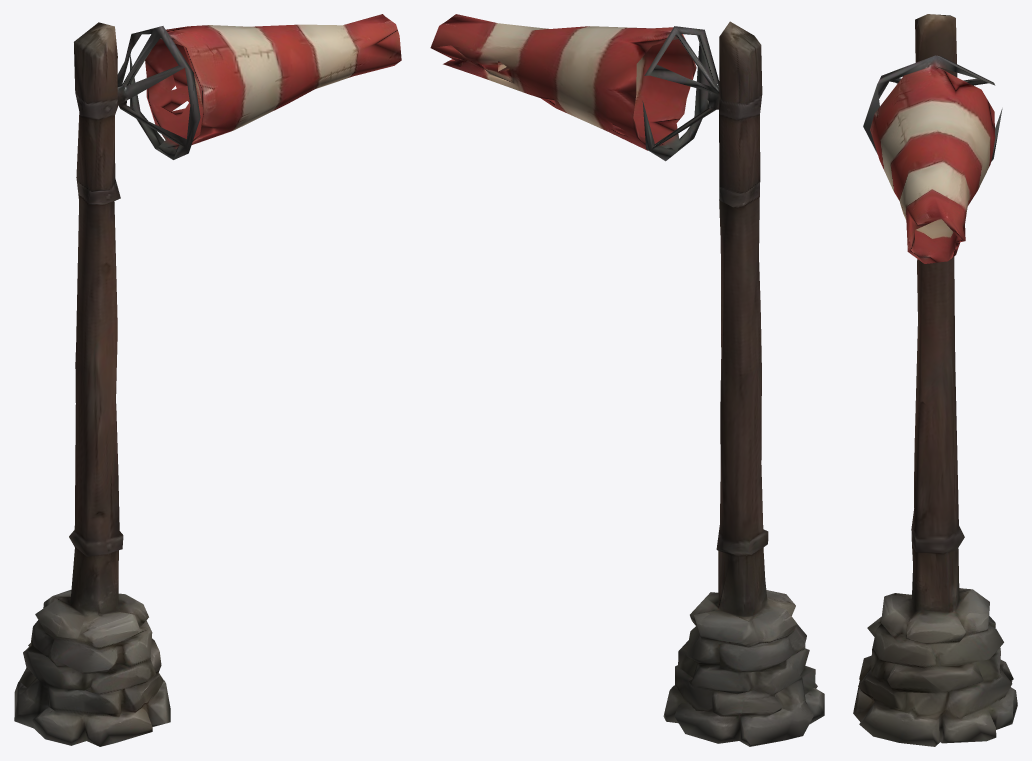
Rendered from windsock.glb.
3 views of the same model, side by side, from view 1: azimuth 30°, elevation 25°; view 2: azimuth 150°, elevation 25°; view 3: azimuth 270°, elevation 25° (orthographic). The views are drawn at different scales.
Parts seen in each view (by area): view 1: tripo_node_92ba9f29-d2a6-4075-bfe6-9358bd63e263; view 2: tripo_node_92ba9f29-d2a6-4075-bfe6-9358bd63e263; view 3: tripo_node_92ba9f29-d2a6-4075-bfe6-9358bd63e263.
Part boxes in pixels (<box>): tripo_node_92ba9f29-d2a6-4075-bfe6-9358bd63e263: <box>14,14,401,746</box>; tripo_node_92ba9f29-d2a6-4075-bfe6-9358bd63e263: <box>430,14,824,746</box>; tripo_node_92ba9f29-d2a6-4075-bfe6-9358bd63e263: <box>853,14,1017,746</box>.
Size of the model in its own units: 0.5675 by 1 by 0.2108.
Materials: 1 (1 with a texture image).
